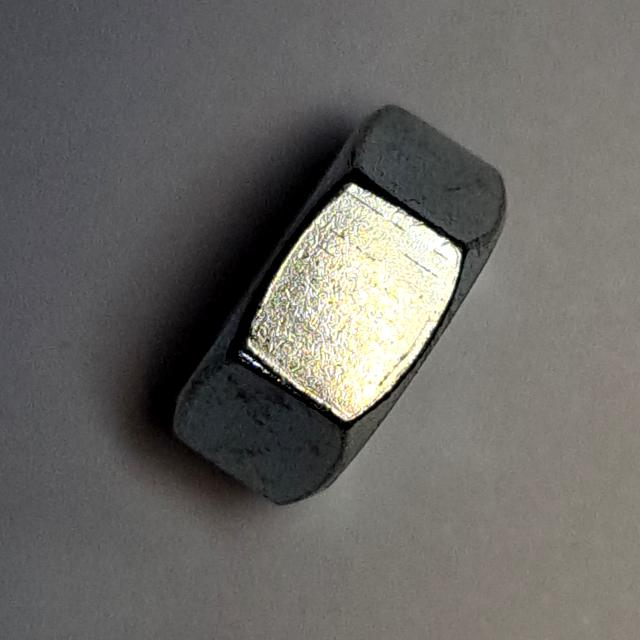Side_Excellent: (153, 85, 514, 525)
